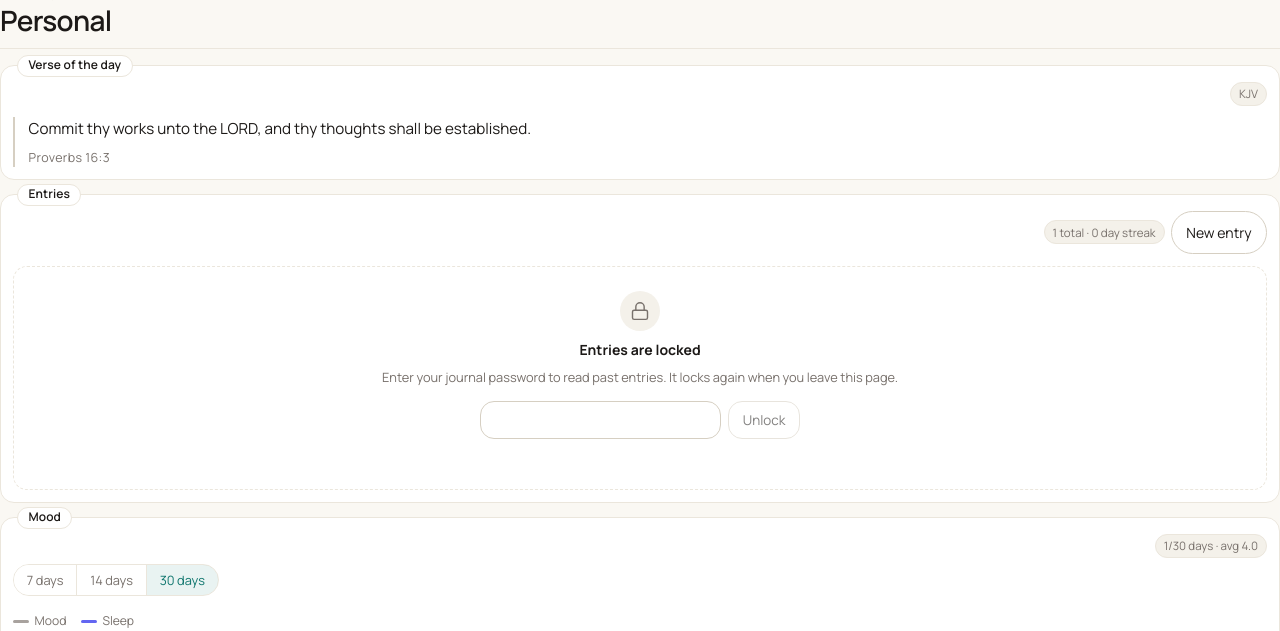
JournalDashboard › keeps past entries locked but still lets the admin start a new one
This screenshot has width=1280, height=631.
Expected: the heading "Entries are locked" is shown, [579,339,701,360]
Click the button "New entry". click: x=1219, y=232
box: [1171,211,1267,254]
(page scrolled)
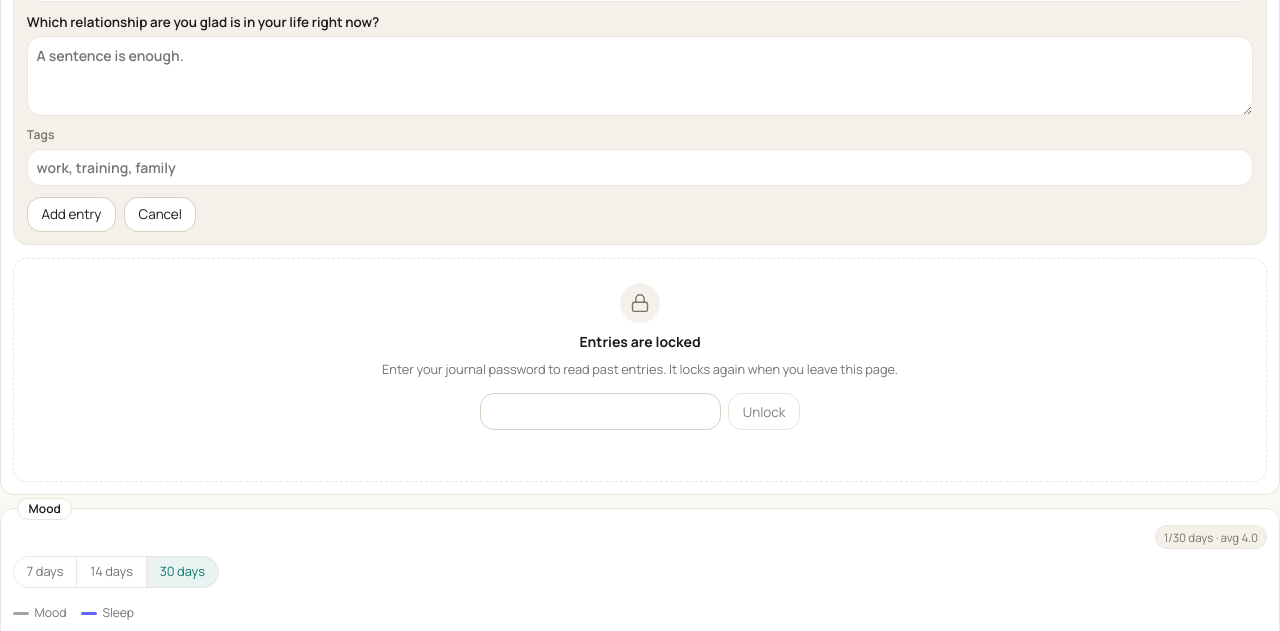
Expected: the heading "Entries are locked" is shown, [579,331,701,352]
Expected: the button "Add entry" is shown, [27,197,116,232]
